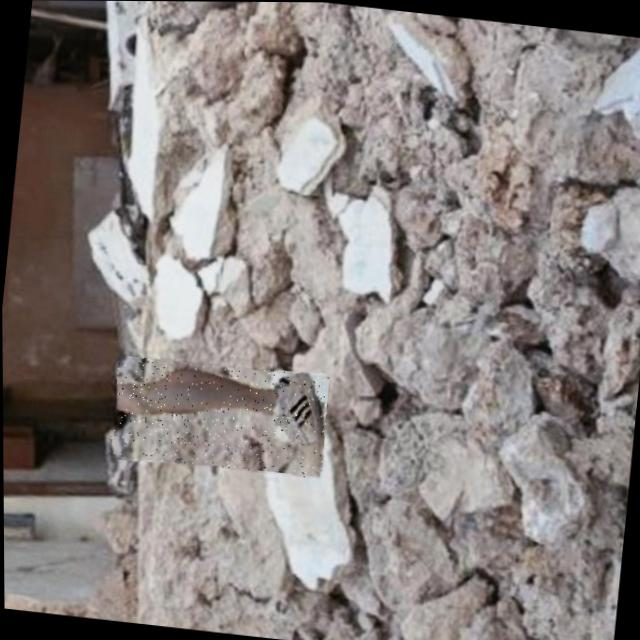Person in Rubble: (108, 351, 330, 477)
